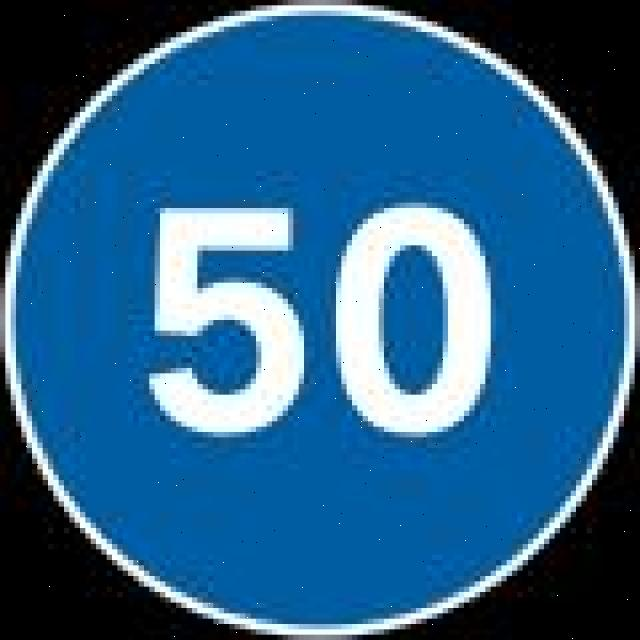speed limit 50: (1, 0, 640, 639)
